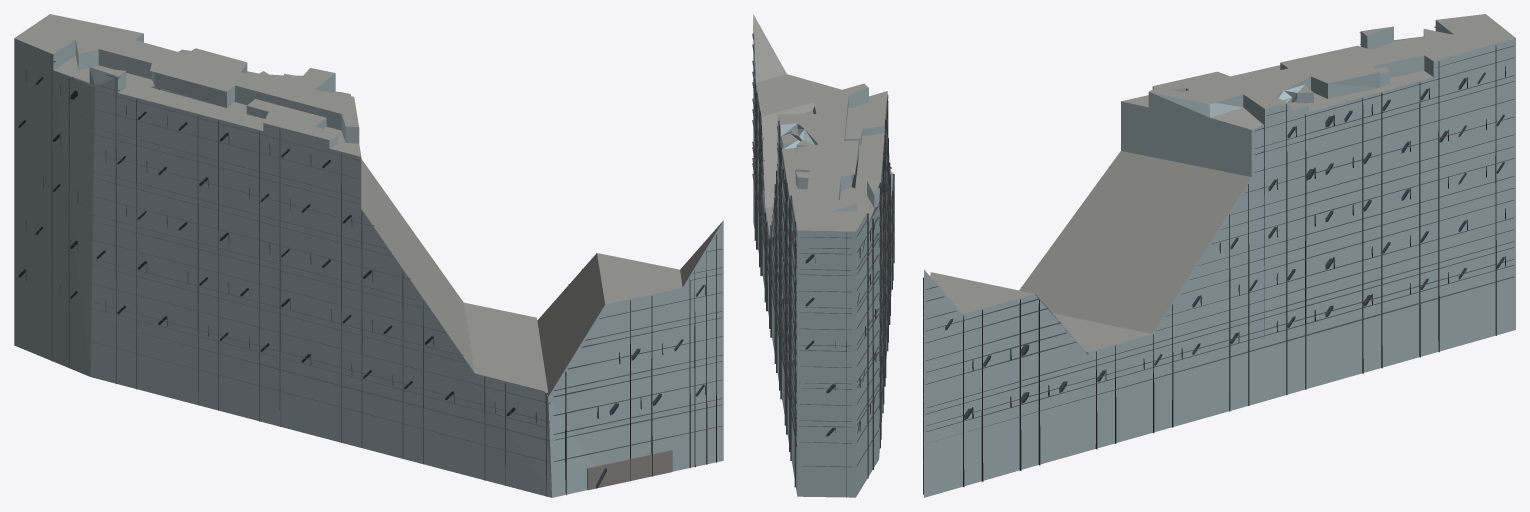
File: room-mate-aitana.lod1.glb
3 renders of one model, left to right at view 1: azimuth 30°, elevation 25°; view 2: azimuth 150°, elevation 25°; view 3: azimuth 270°, elevation 25°, orthographic. The views are drawn at different scales.
Parts seen in each view (by area): view 1: room-mate-aitana; view 2: room-mate-aitana; view 3: room-mate-aitana.
Boxes of the visible parts, <box> form: room-mate-aitana: <box>14,14,723,497</box>; room-mate-aitana: <box>752,14,894,497</box>; room-mate-aitana: <box>923,14,1515,497</box>.
Bounding box in the file's own units: 61.53 × 43.7 × 80.23.
